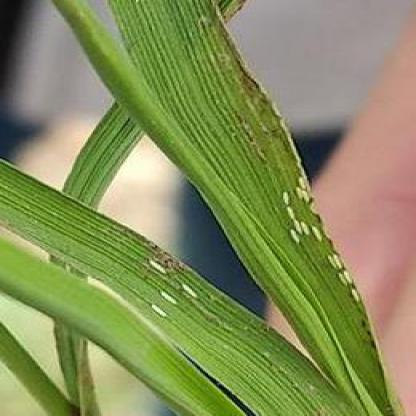whorl-maggot: (156, 288, 186, 308), (144, 256, 170, 279), (146, 302, 172, 325), (326, 254, 344, 271), (182, 282, 200, 298), (344, 269, 360, 285), (300, 218, 312, 238), (350, 288, 364, 305), (312, 226, 326, 243), (290, 219, 304, 235), (286, 208, 300, 224), (294, 176, 312, 188), (289, 227, 300, 245), (337, 272, 348, 288), (284, 192, 294, 209), (302, 191, 313, 206)
